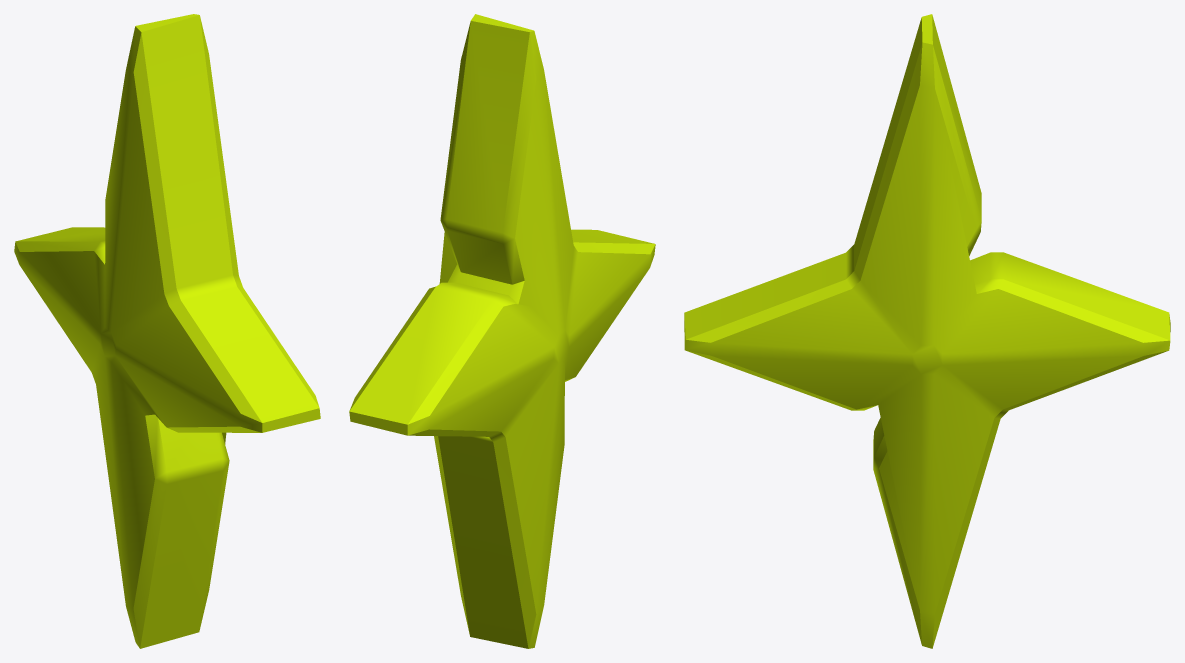
The model's file is theorycraft-transformed.glb.
3 views of the same model, side by side, from view 1: azimuth 30°, elevation 25°; view 2: azimuth 150°, elevation 25°; view 3: azimuth 270°, elevation 25° (orthographic). The views are drawn at different scales.
Parts seen in each view (by area): view 1: pCylinder1; view 2: pCylinder1; view 3: pCylinder1.
Part boxes in pixels (x1=…): pCylinder1: x1=14, y1=14, x2=320, y2=648; pCylinder1: x1=349, y1=14, x2=655, y2=648; pCylinder1: x1=684, y1=14, x2=1170, y2=648.
Bounding box in the file's own units: 0.0553 × 0.2745 × 0.1993.
